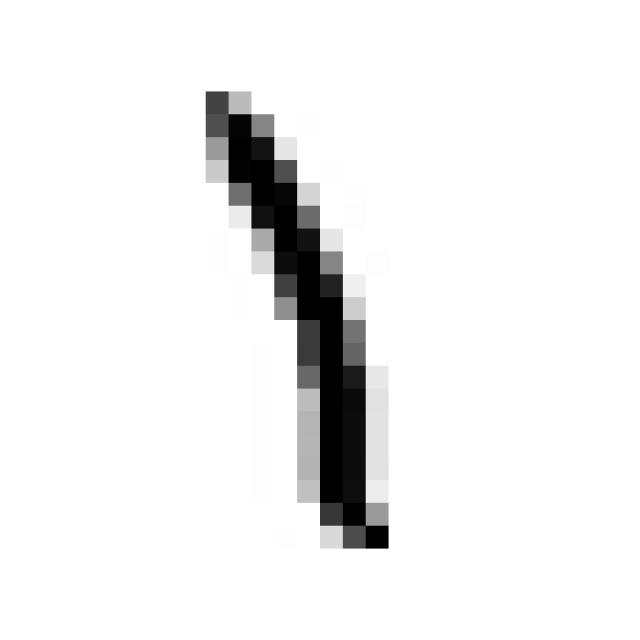1 -one-: (183, 73, 403, 565)
